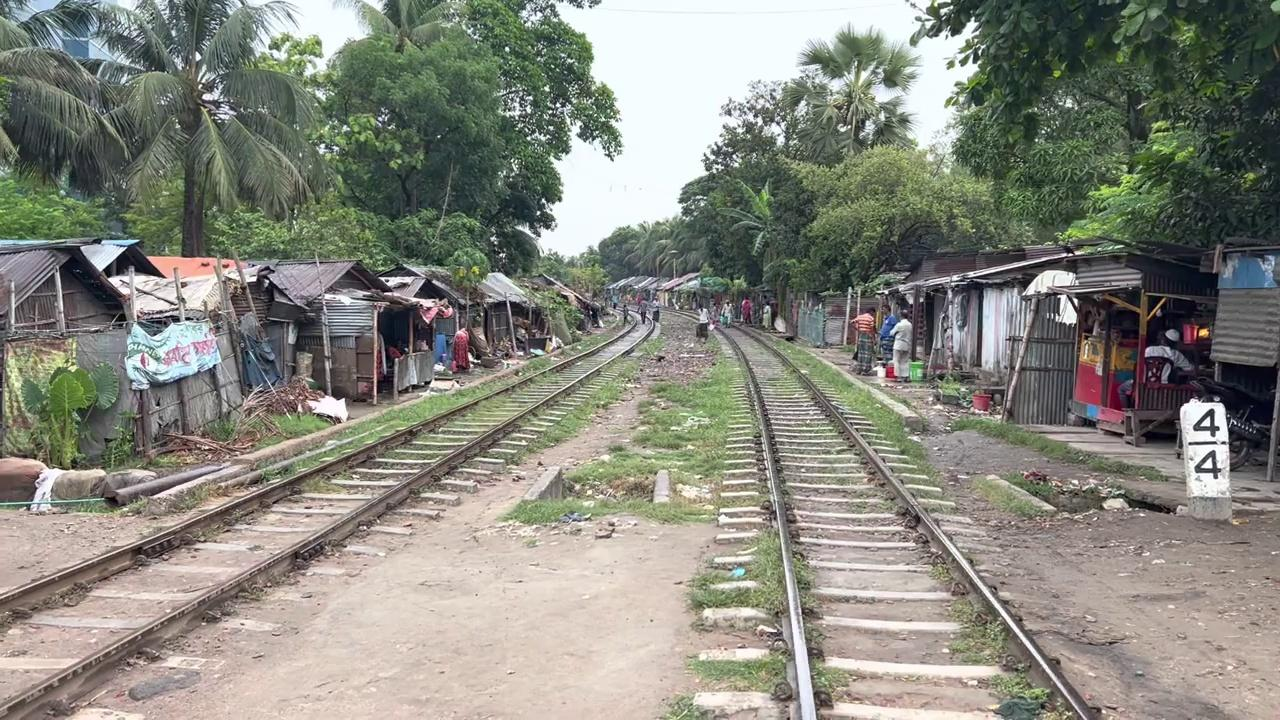Fence: (888, 309, 913, 381), (450, 323, 471, 372)
Garbage: (312, 250, 333, 396)
Motorcycle: (1, 299, 659, 717), (707, 306, 1096, 718)
Pothole: (1178, 398, 1232, 520)
Railroad-crossing: (70, 0, 331, 257), (778, 21, 921, 161)
